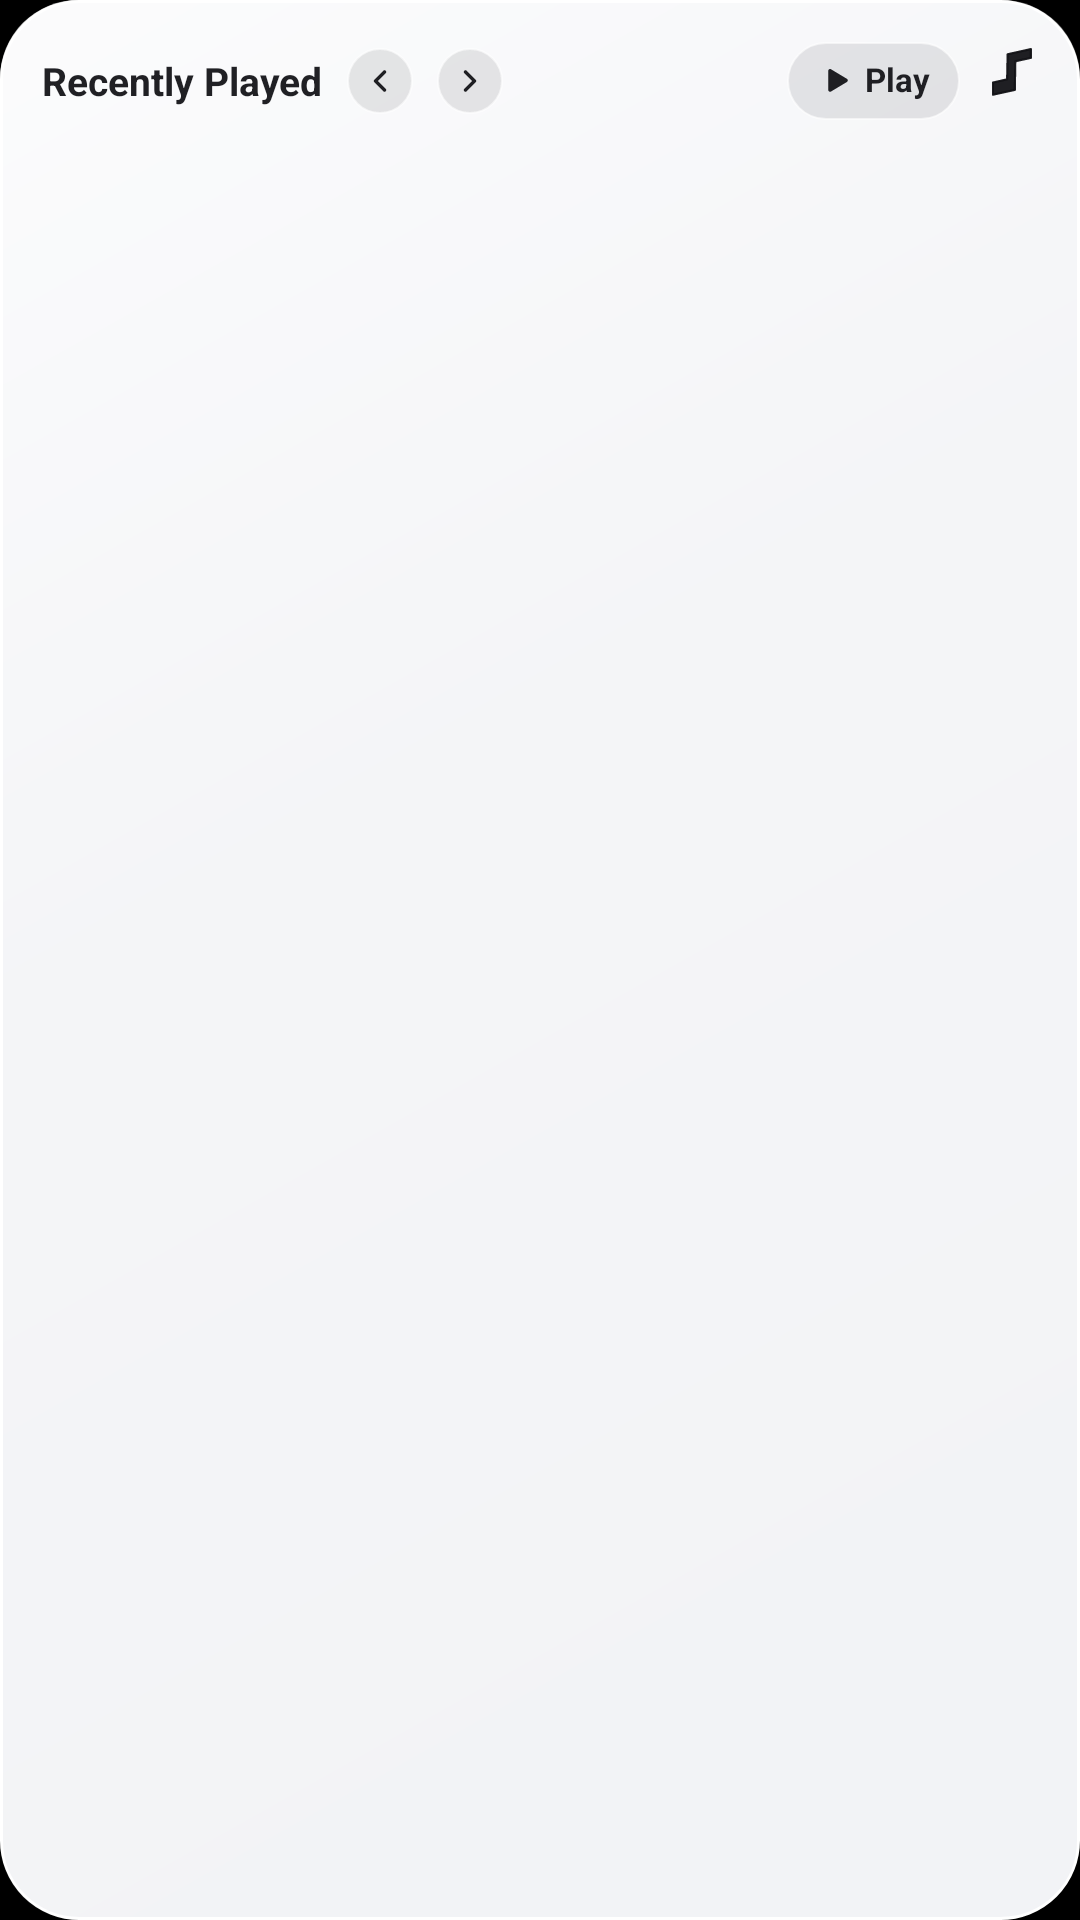

Icons on this 1080 × 1920 Android screen, each with the point to tap as (x=x, y=y):
Next page: (x=470, y=81)
Previous page: (x=380, y=81)
